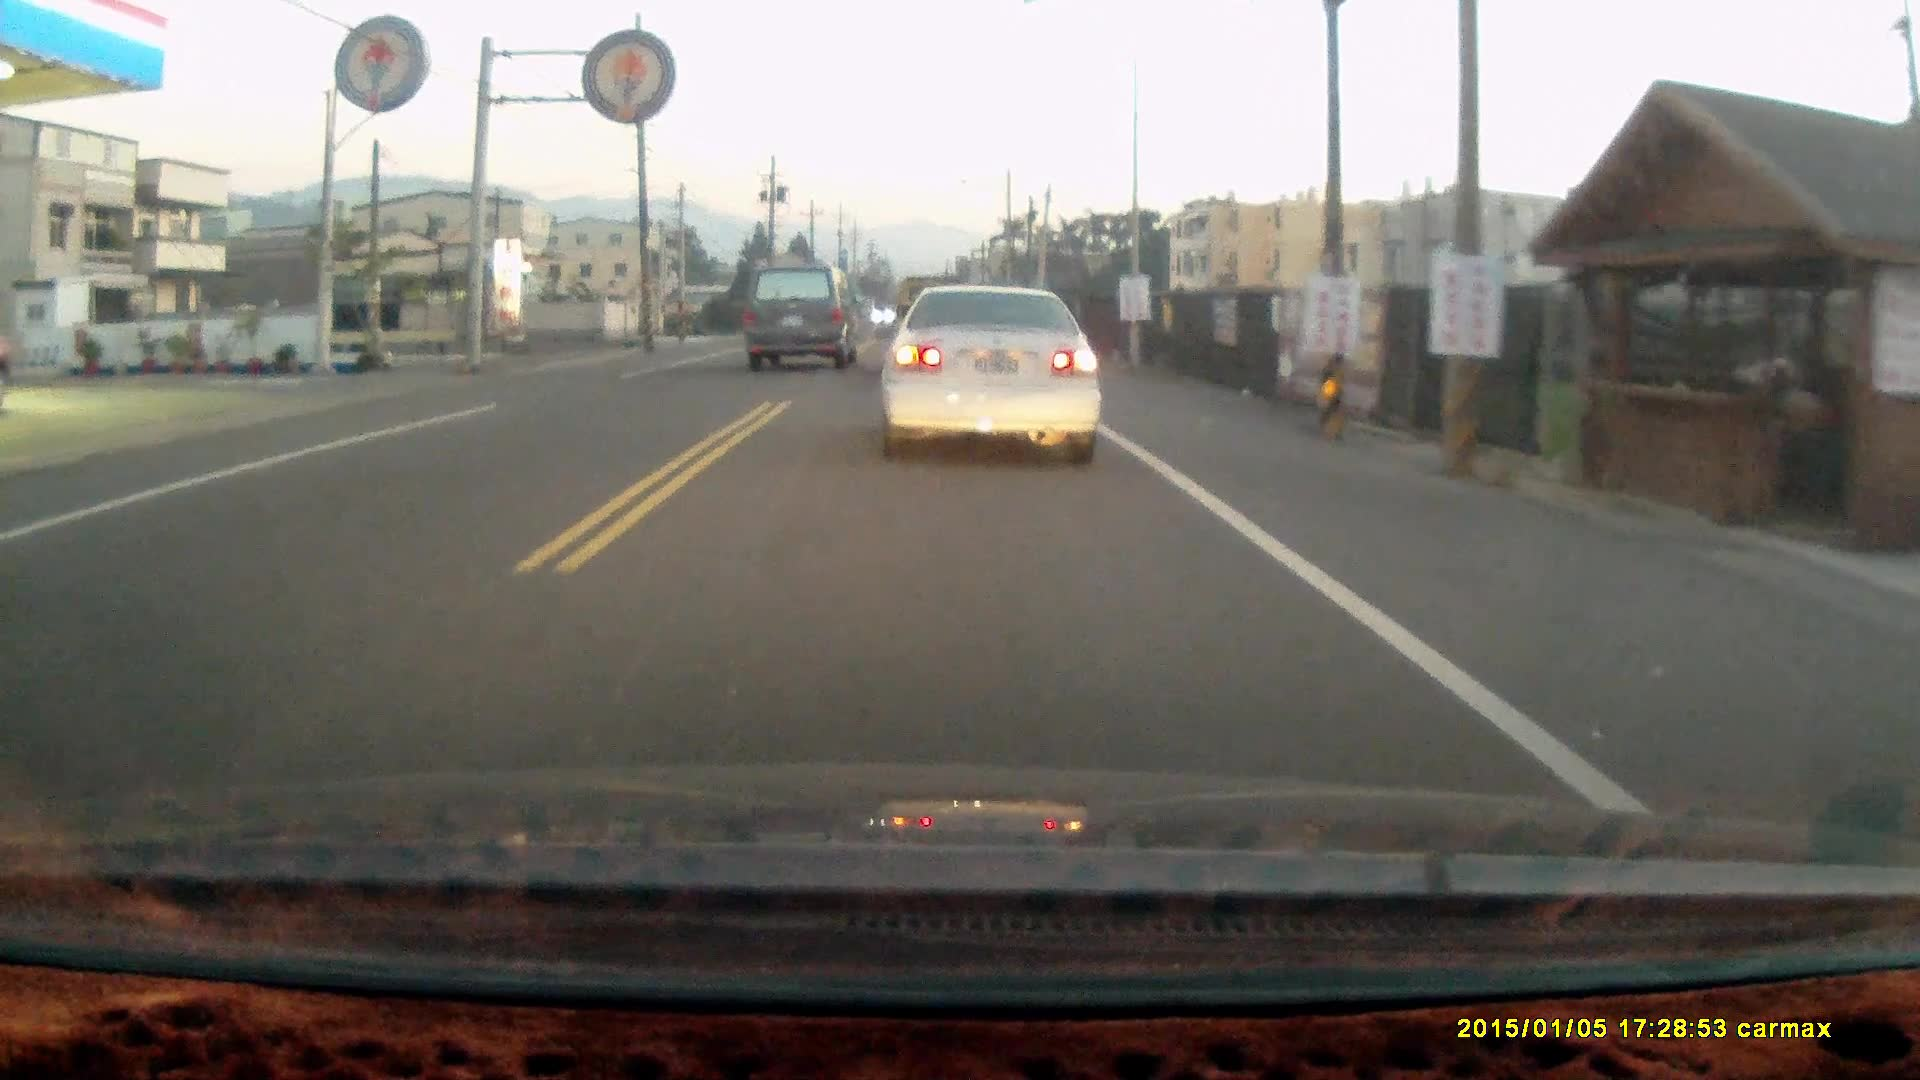pedestrian: (1755, 355, 1820, 486)
vehicle: (875, 279, 1103, 467), (737, 259, 859, 373)
